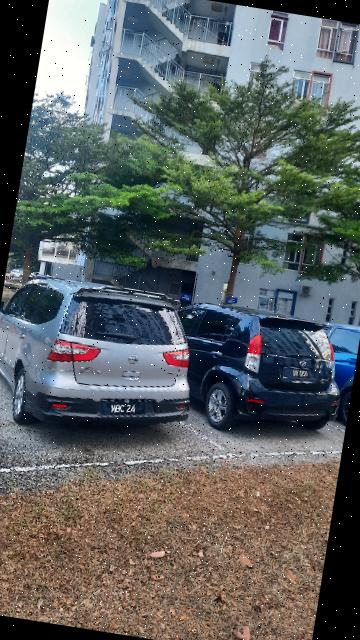License_Plate: (96, 395, 163, 425), (280, 364, 324, 387)
car: (1, 269, 210, 449), (156, 295, 354, 450)
